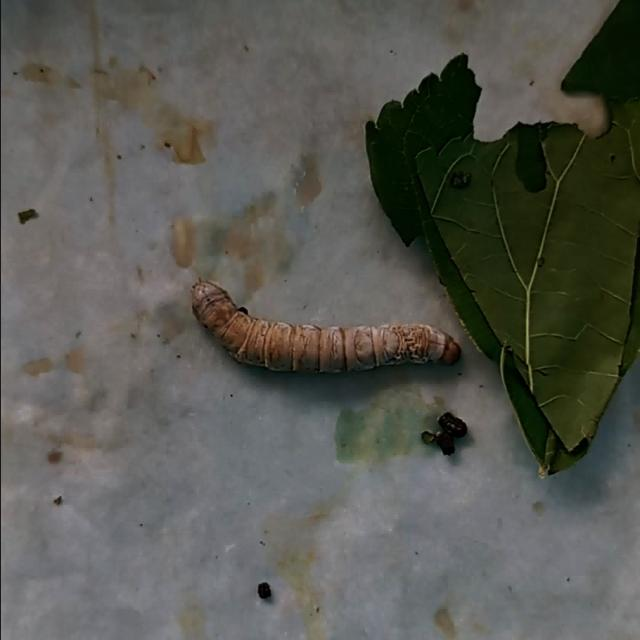Grasserie: (184, 262, 476, 400)
